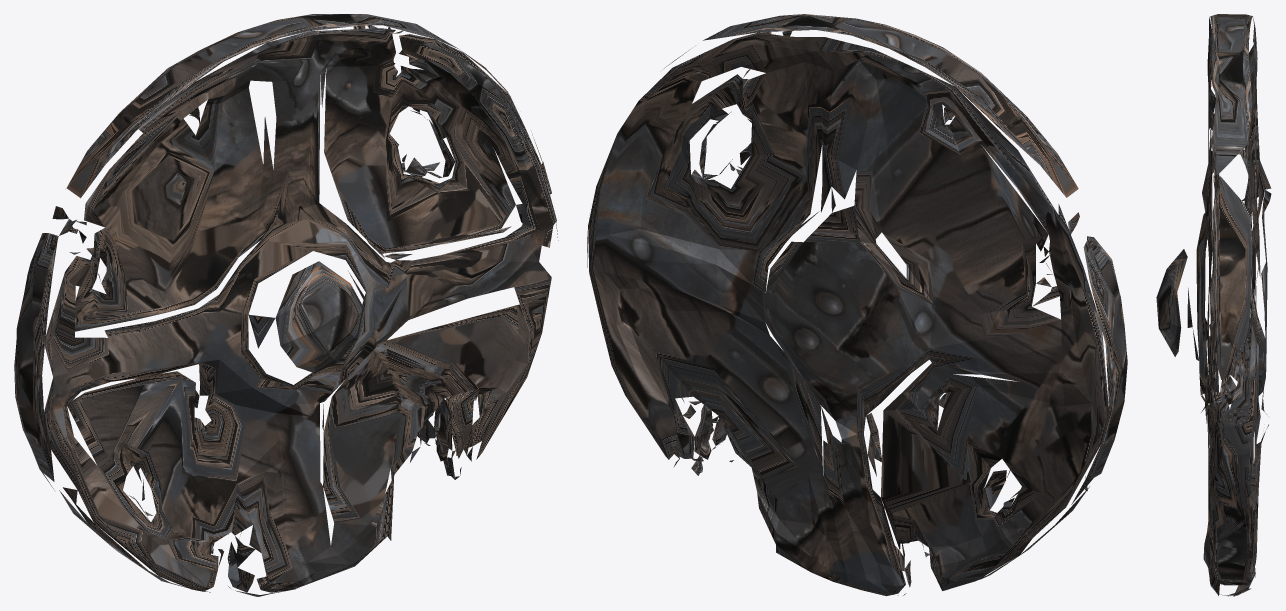
The model's file is round-shield.glb.
3 renders of one model, left to right at view 1: azimuth 30°, elevation 25°; view 2: azimuth 150°, elevation 25°; view 3: azimuth 270°, elevation 25°, orthographic. The views are drawn at different scales.
Visible parts, largest first — view 1: mesh; view 2: mesh; view 3: mesh.
Part boxes in pixels (x1=…): mesh: x1=14, y1=14, x2=558, y2=596; mesh: x1=587, y1=14, x2=1127, y2=596; mesh: x1=1156, y1=14, x2=1271, y2=596.
Size of the model in its own units: 1.99 by 2 by 0.3925.
Materials: 1 (1 with a texture image).
